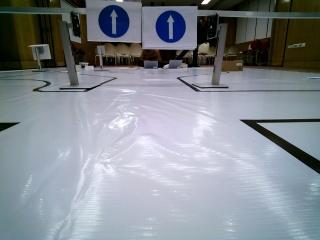straight: (86, 0, 141, 44), (143, 6, 199, 48)
